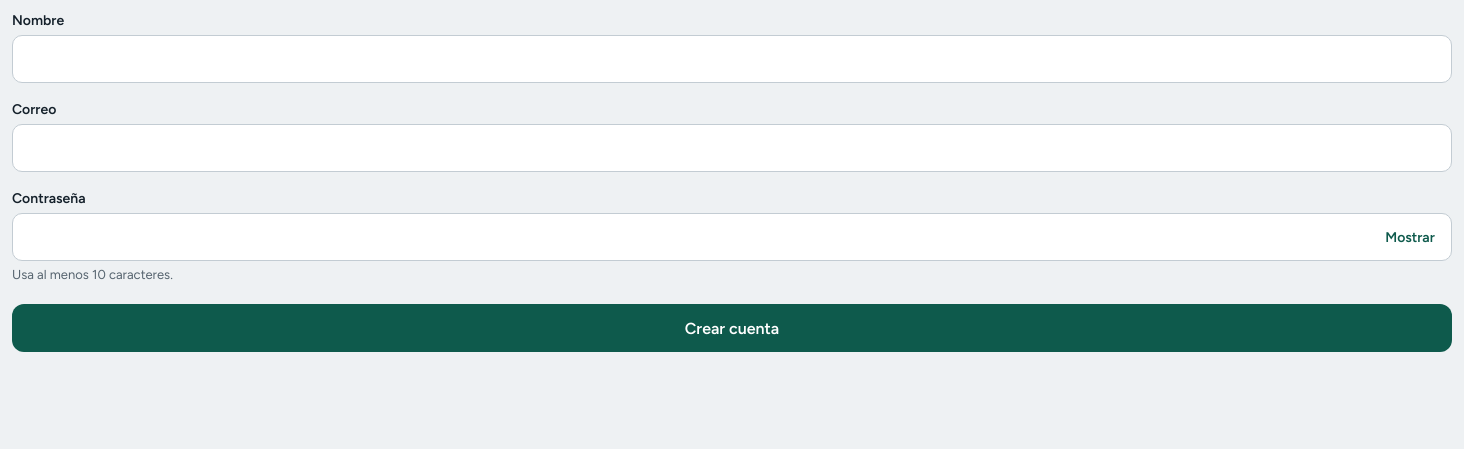
Test: RegisterForm › puts field errors from the API next to their field
Type "Ana" into the field labelled "Nombre" at (732, 59), box [12,35,1452,83]
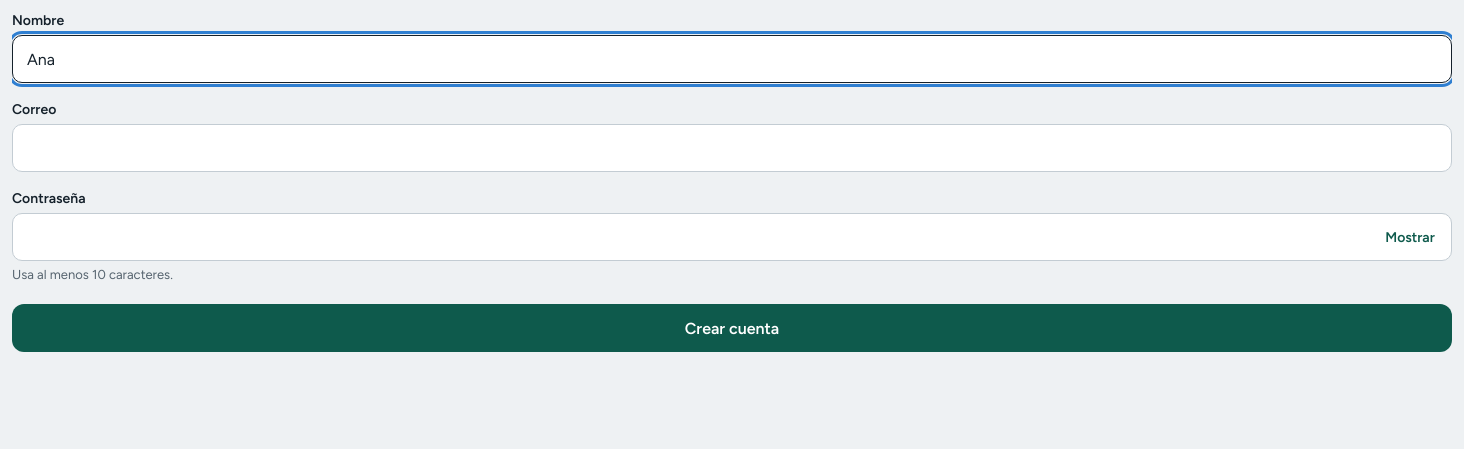
Type "ana@example.com" into the field labelled "Correo" at (732, 148), box [12,124,1452,172]
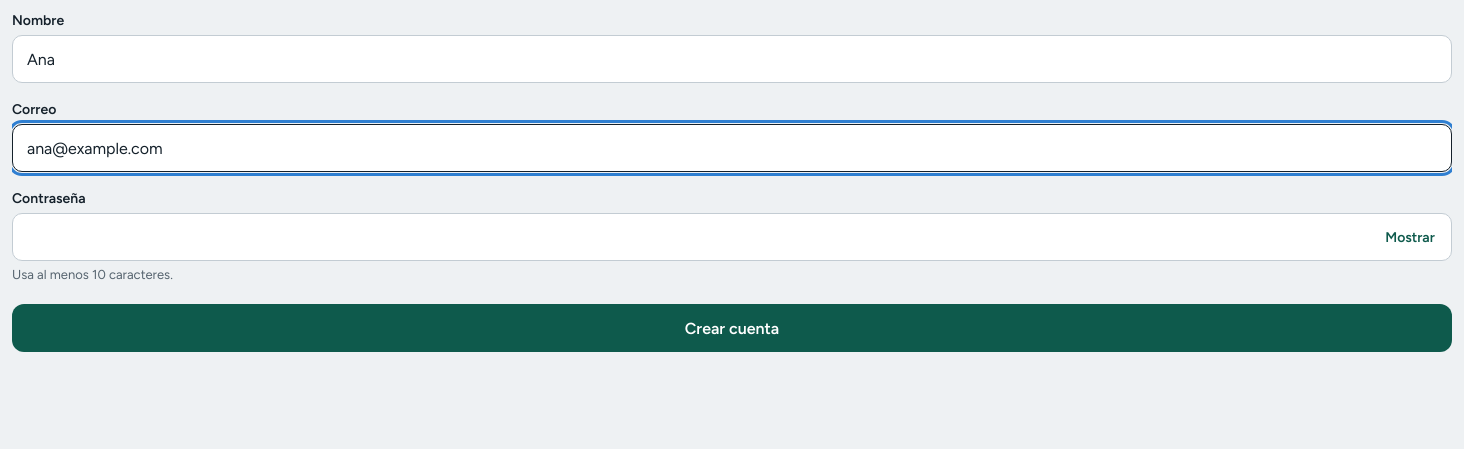
Type "contraseña-segura" into the password field labelled "Contraseña" at (732, 237), box [12,213,1452,261]
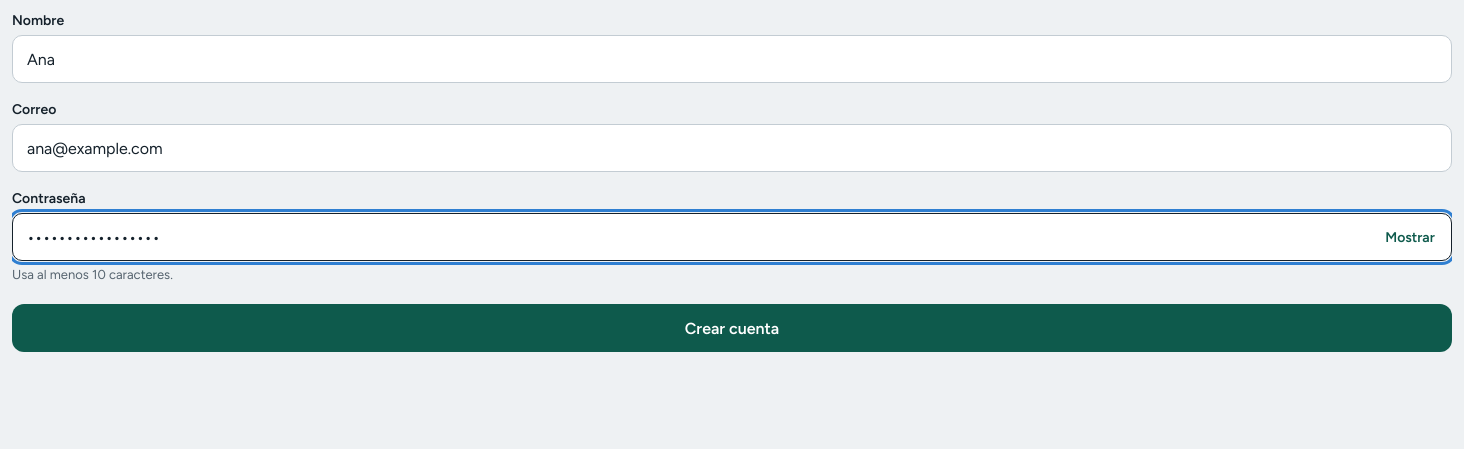
Click the button "Crear cuenta" at (732, 328), box [12,304,1452,352]
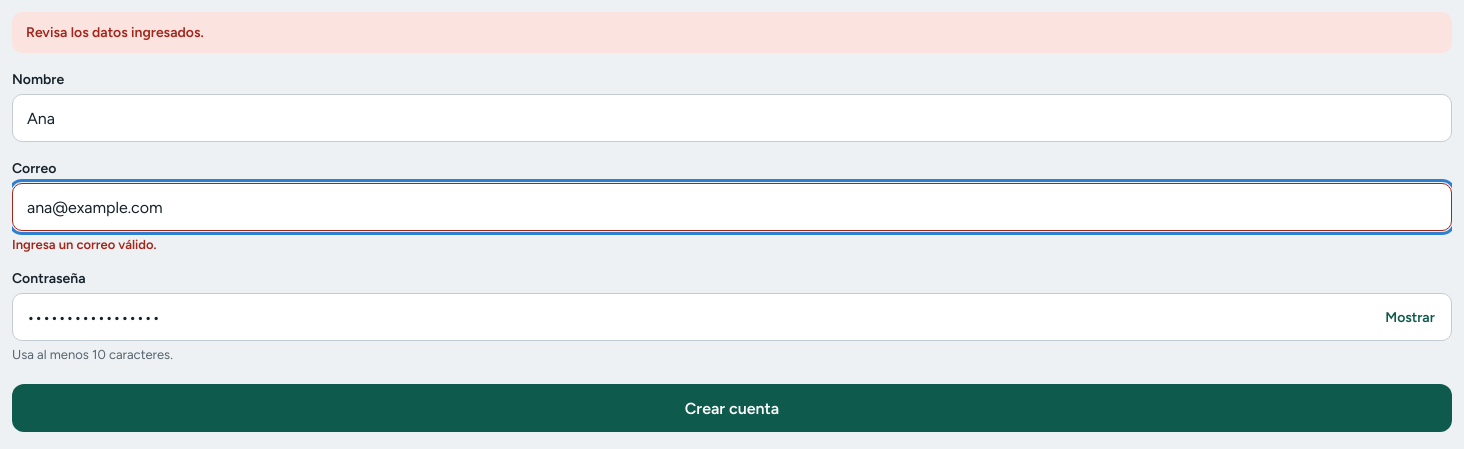
Expected: the text "Ingresa un correo válido." is shown, [12,237,156,252]
